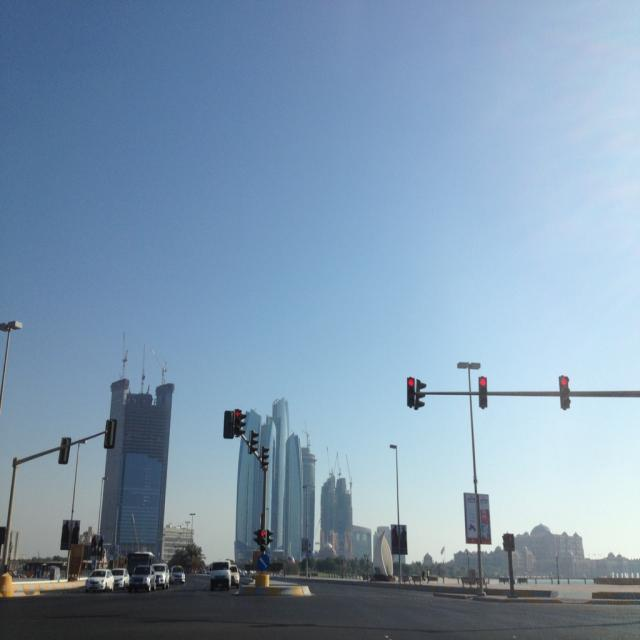off traffic light: (250, 429, 259, 452), (418, 380, 425, 408), (262, 444, 269, 464)
traffic light: (560, 374, 571, 410), (406, 379, 416, 404), (479, 378, 487, 406)
